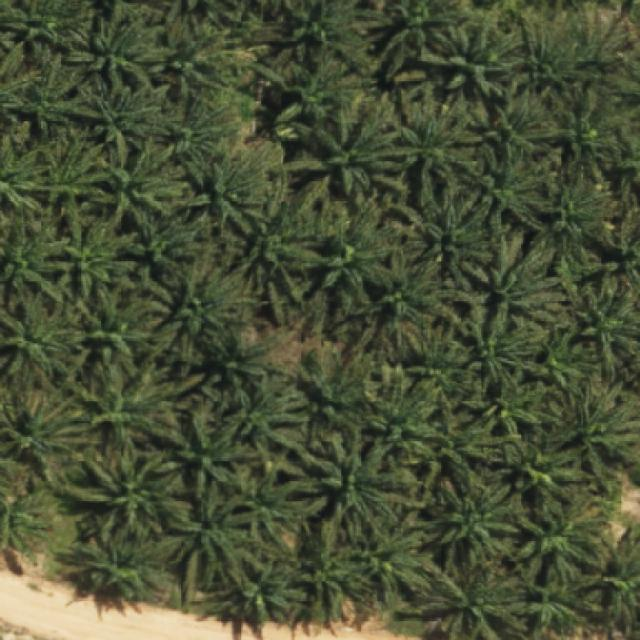Kelapa_Sawit: (221, 159, 328, 327), (288, 432, 426, 543), (64, 436, 194, 547), (285, 89, 412, 202), (458, 228, 570, 340), (358, 244, 476, 350), (162, 476, 258, 606), (389, 182, 497, 293), (380, 82, 488, 193), (145, 259, 260, 361), (352, 358, 451, 474), (309, 189, 402, 311), (541, 374, 640, 487), (66, 366, 189, 456), (512, 485, 613, 593), (92, 130, 192, 233), (134, 16, 255, 101), (65, 512, 177, 602), (61, 5, 179, 90), (526, 161, 626, 261), (459, 141, 563, 237), (469, 75, 569, 174), (424, 475, 524, 571), (230, 444, 318, 553), (418, 17, 527, 105), (421, 388, 516, 488), (156, 408, 258, 501), (211, 374, 314, 466), (283, 340, 372, 443), (175, 143, 268, 240), (349, 507, 434, 610), (494, 427, 592, 515), (253, 56, 364, 133), (458, 300, 548, 392), (542, 86, 626, 182), (76, 83, 172, 166), (206, 550, 308, 628), (34, 136, 111, 239), (194, 322, 295, 400), (71, 289, 151, 385), (158, 95, 238, 187), (297, 533, 372, 627), (18, 53, 100, 138), (116, 208, 202, 286), (464, 369, 550, 442), (46, 216, 119, 299), (512, 11, 574, 106)
